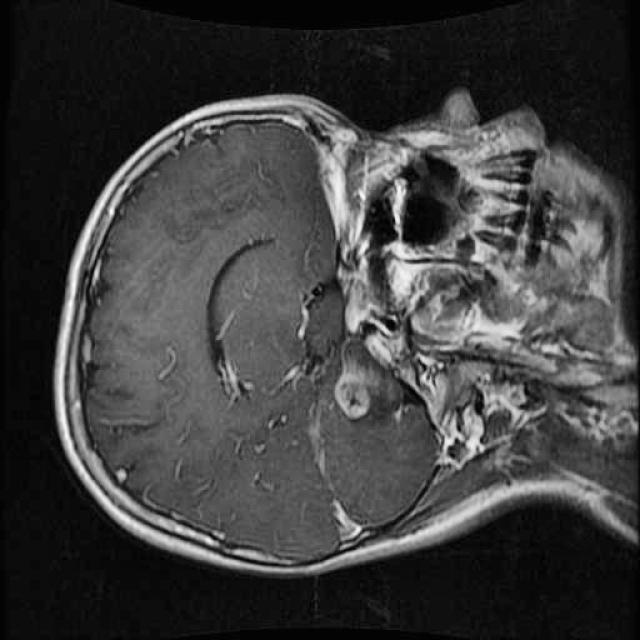Tumor: (322, 342, 418, 432)
